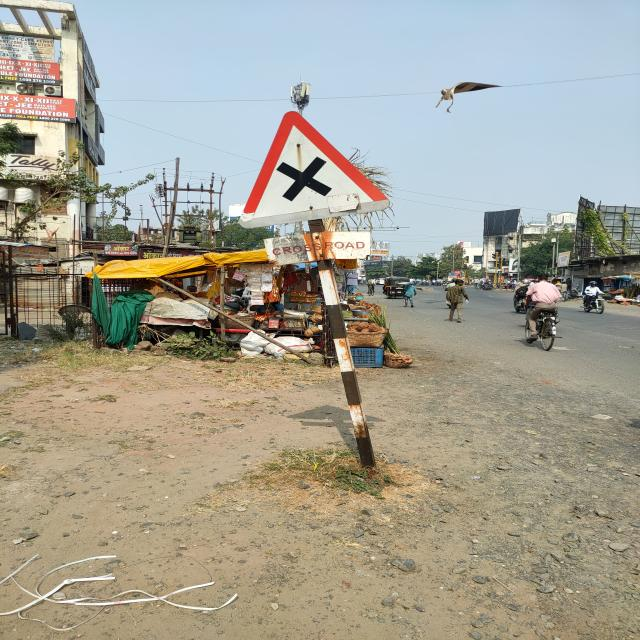CROSS_ROAD: (232, 109, 393, 232)
